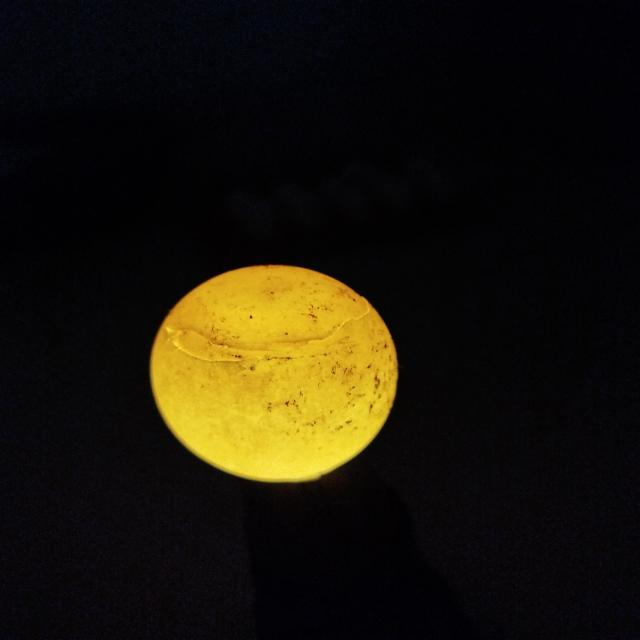Rachadura: (163, 294, 373, 364)
